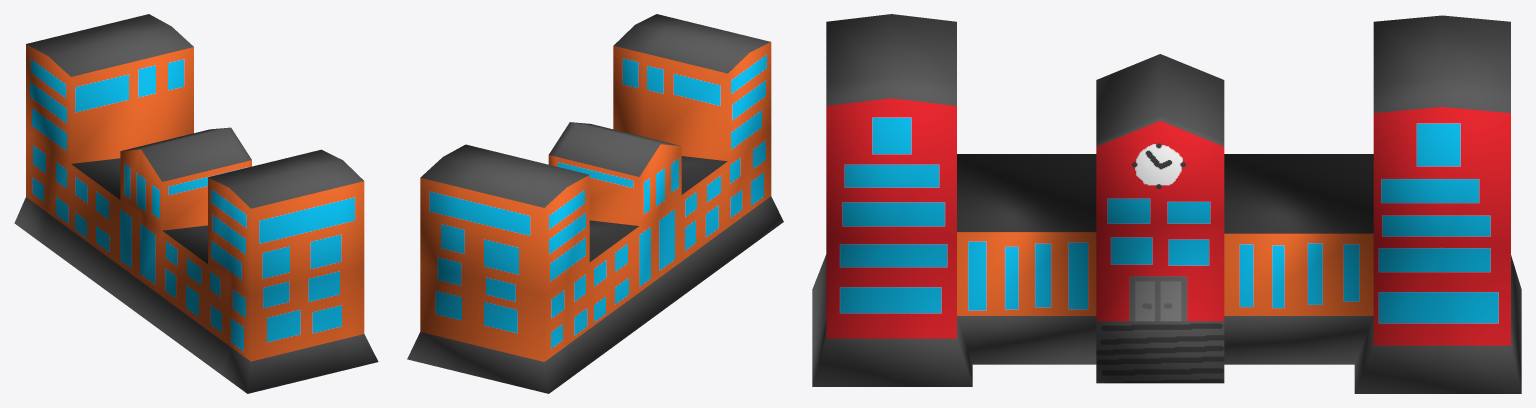
Rendered from School.fbx.
The picture shows the model from 3 angles, left to right: view 1: azimuth 30°, elevation 25°; view 2: azimuth 150°, elevation 25°; view 3: azimuth 270°, elevation 25°; orthographic projection. The views are drawn at different scales.
Visible parts, largest first — view 1: Cube; view 2: Cube; view 3: Cube.
Boxes of the visible parts, left/top/right/bottom form: Cube: left=14, top=14, right=378, bottom=393; Cube: left=407, top=14, right=783, bottom=393; Cube: left=812, top=14, right=1521, bottom=393.
Bounding box in the file's own units: 3.87 × 4.86 × 11.1.
